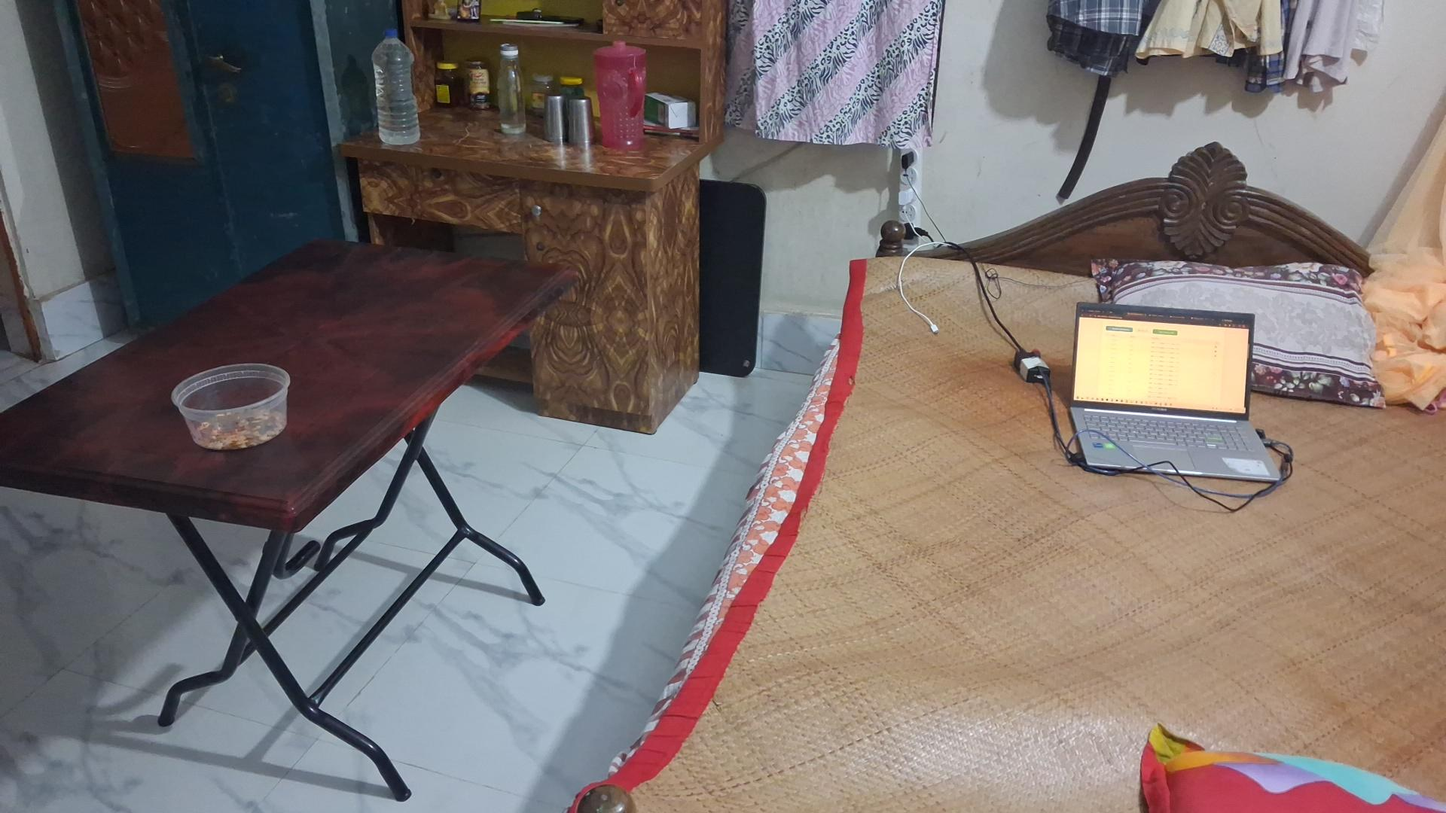Bottle: (372, 28, 420, 146), (495, 43, 526, 136)
Bowl: (171, 362, 290, 451)
Box: (647, 87, 696, 127)
Glass: (539, 91, 568, 145), (568, 96, 594, 149)
Jar: (430, 58, 461, 108), (464, 57, 492, 109)
Jug: (588, 41, 653, 153)
Laptop: (1069, 302, 1281, 482)
Table: (5, 234, 562, 800)
